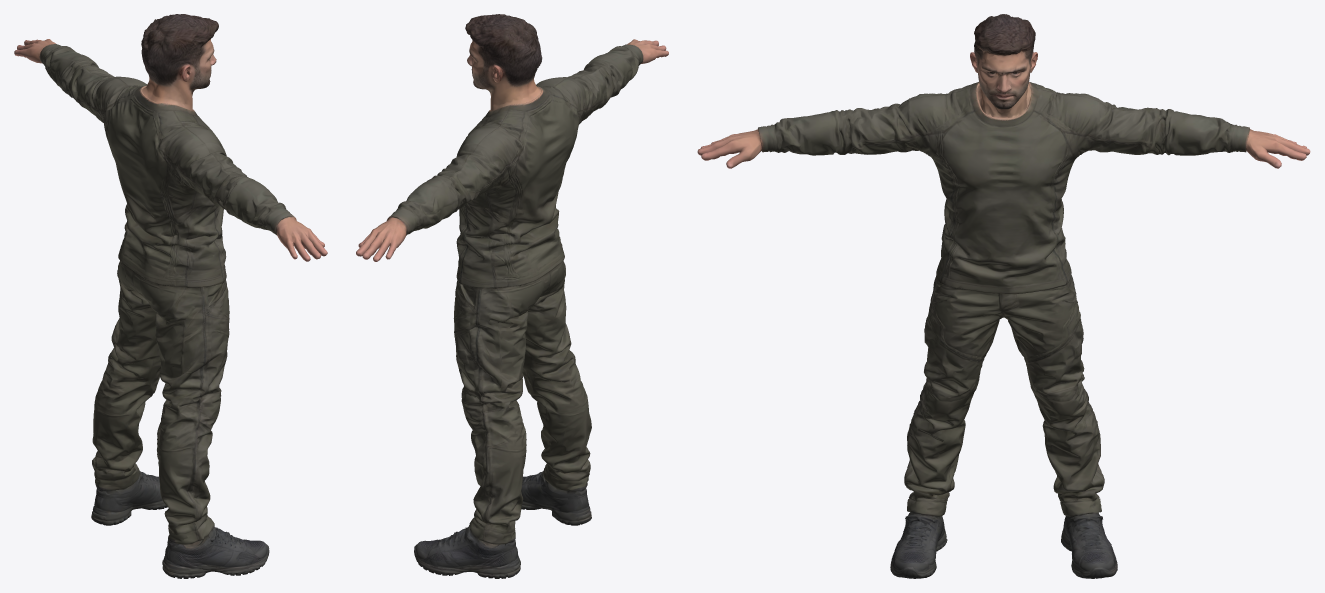
Rendered from base-soldier-textured-v3.glb.
3 renders of one model, left to right at view 1: azimuth 30°, elevation 25°; view 2: azimuth 150°, elevation 25°; view 3: azimuth 270°, elevation 25°, orthographic. The views are drawn at different scales.
Visible parts, largest first — view 1: tripo_node_cdec90fa-dacd-4545-8e20-04f2f4fbfa58; view 2: tripo_node_cdec90fa-dacd-4545-8e20-04f2f4fbfa58; view 3: tripo_node_cdec90fa-dacd-4545-8e20-04f2f4fbfa58.
Boxes of the visible parts, x1,y1,x2,y2 form: tripo_node_cdec90fa-dacd-4545-8e20-04f2f4fbfa58: (14,14,327,578); tripo_node_cdec90fa-dacd-4545-8e20-04f2f4fbfa58: (356,14,668,578); tripo_node_cdec90fa-dacd-4545-8e20-04f2f4fbfa58: (697,14,1310,578).
Size of the model in its own units: 0.1844 by 0.9608 by 0.9803.
1 material, 1 textured.
